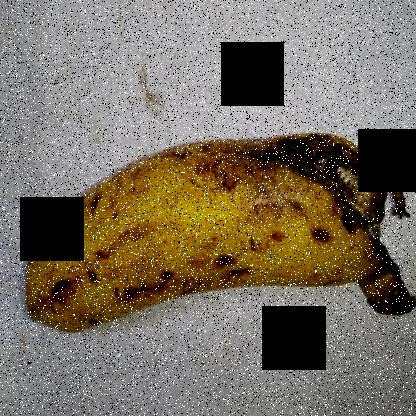ripe: (21, 86, 416, 383)
rotten: (203, 98, 390, 249)
